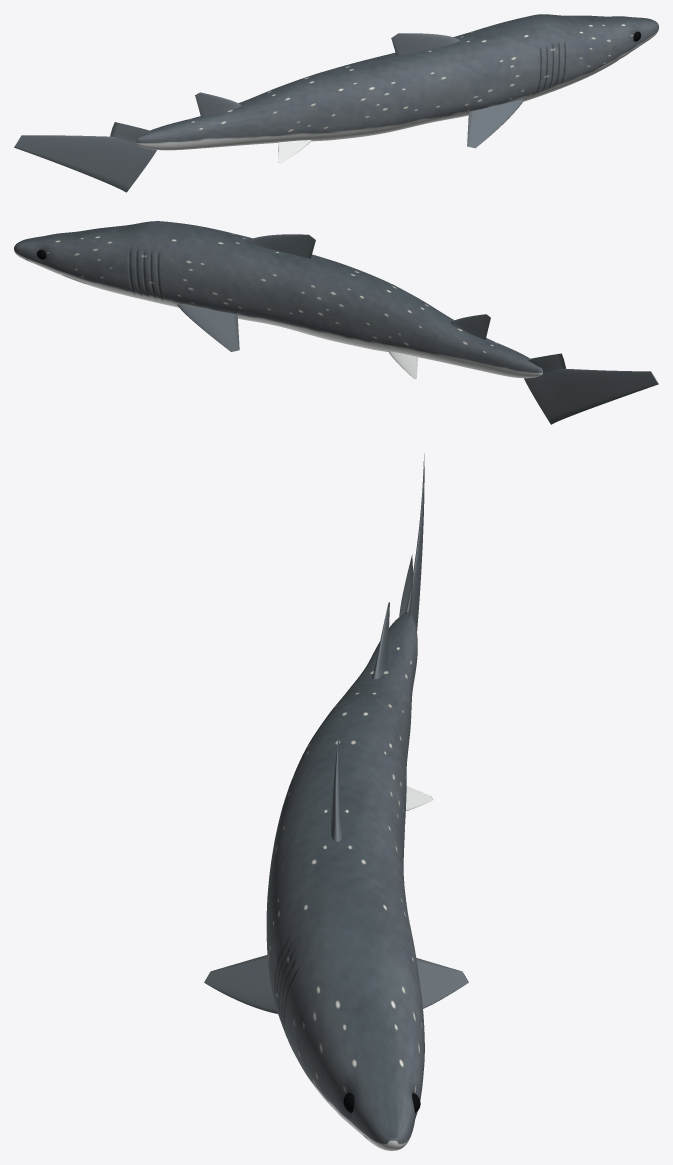
File: spiny_dogfish.glb
3 views of the same model, one above another, from view 1: azimuth 30°, elevation 25°; view 2: azimuth 150°, elevation 25°; view 3: azimuth 270°, elevation 25° (orthographic). The views are drawn at different scales.
Visible parts, largest first — view 1: SpinyDogfish_Body, SpinyDogfish_Fins; view 2: SpinyDogfish_Body, SpinyDogfish_Fins; view 3: SpinyDogfish_Body, SpinyDogfish_Fins.
Part boxes in pixels (x1,y1,x2,y2): SpinyDogfish_Body: (136, 14, 658, 150); SpinyDogfish_Fins: (14, 33, 524, 192); SpinyDogfish_Body: (14, 221, 542, 378); SpinyDogfish_Fins: (177, 234, 658, 424); SpinyDogfish_Body: (266, 612, 424, 1150); SpinyDogfish_Fins: (204, 453, 468, 1013).
Size of the model in its own units: 1 by 0.1659 by 0.1803.
Materials: 3 (1 with a texture image).
